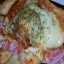pizza: (1, 1, 62, 62)
